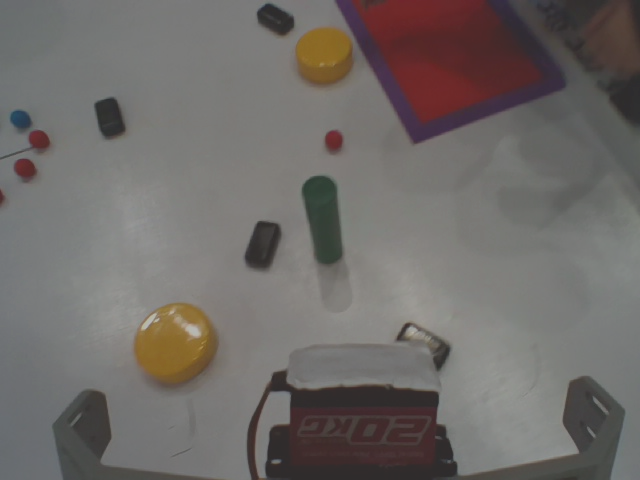black: (243, 204, 295, 280), (393, 315, 456, 371), (90, 88, 133, 152), (237, 2, 296, 32)
blue: (8, 106, 39, 128)
kuang: (331, 1, 593, 163)
red: (9, 154, 39, 182), (314, 129, 349, 153), (23, 130, 54, 157), (1, 185, 22, 215)
yellow: (97, 300, 231, 388), (284, 24, 355, 93)
zhuzi: (294, 164, 351, 267)
